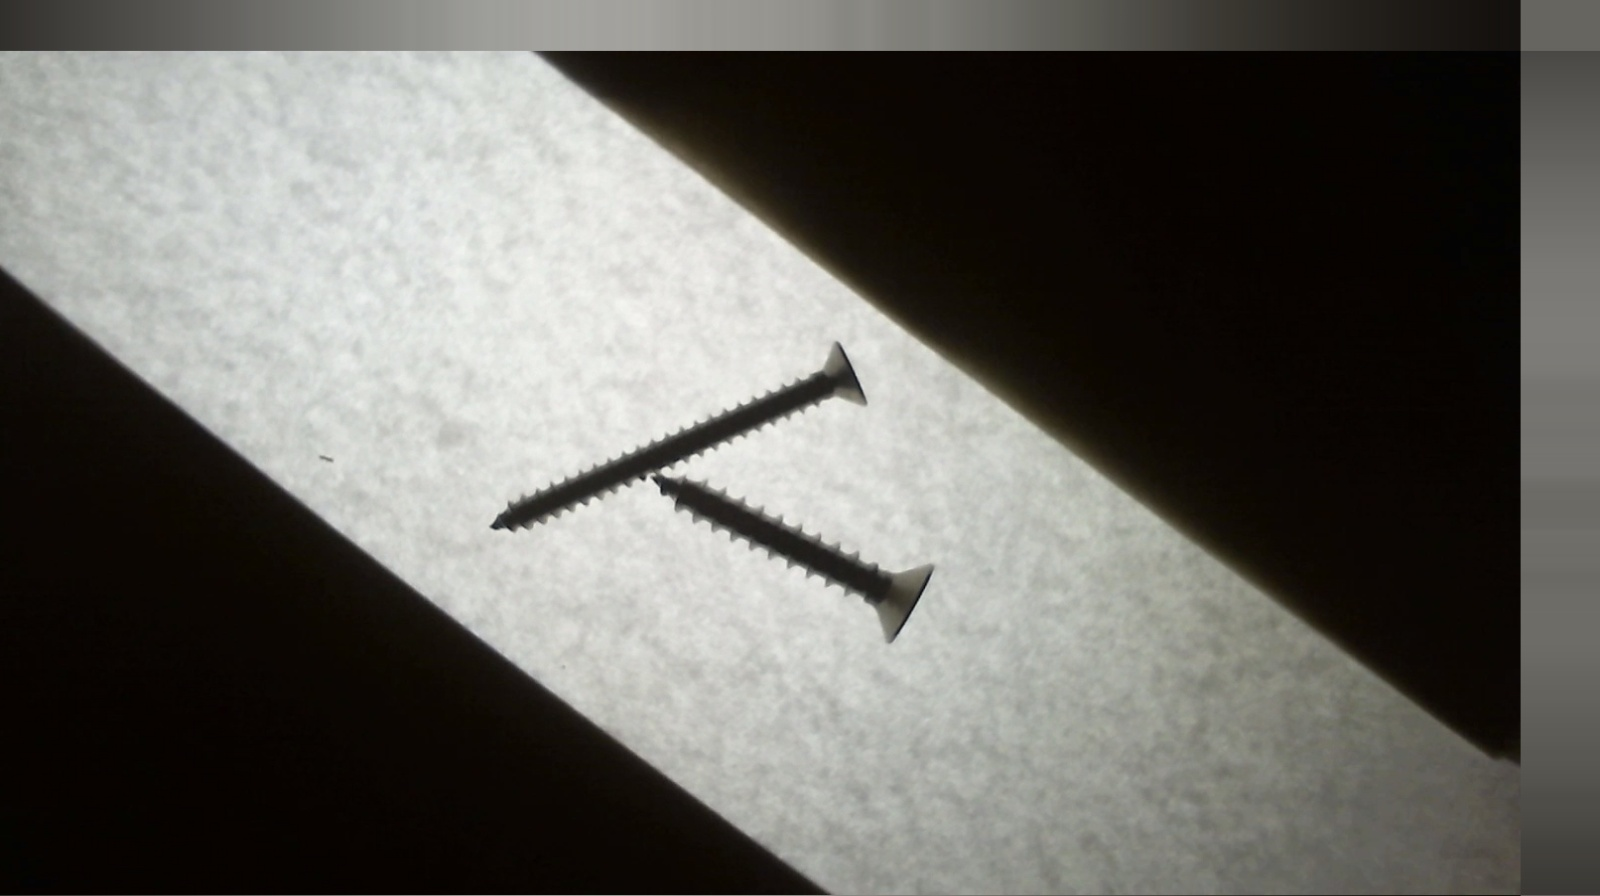S001: (645, 472, 938, 646)
S002: (484, 332, 869, 535)
